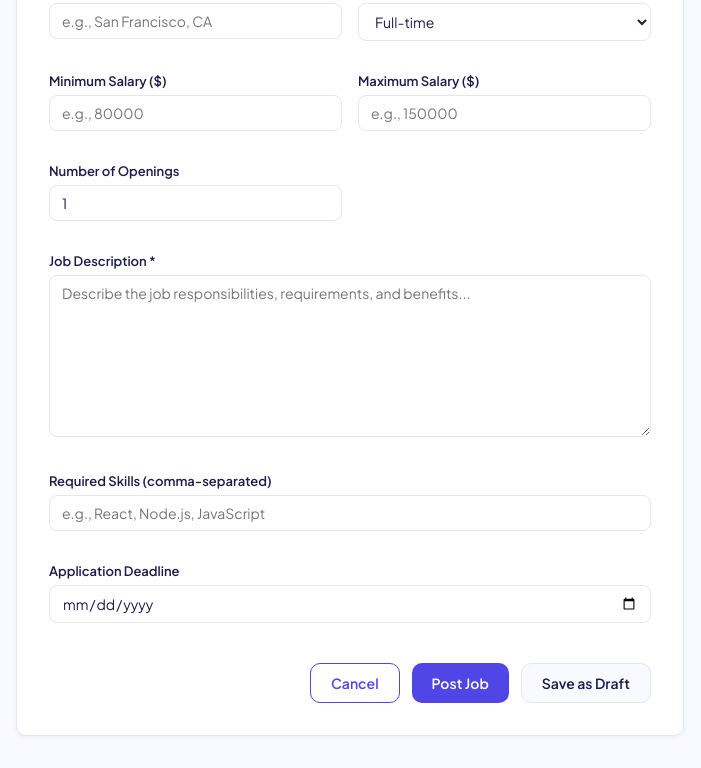
Test: CreateJobPost › shows validation error when required fields are empty
(page scrolled)
# Save as Draft bypasses HTML5 form validation but runs custom validation
Click the button "Save as Draft" at (586, 683), box [521, 663, 651, 703]
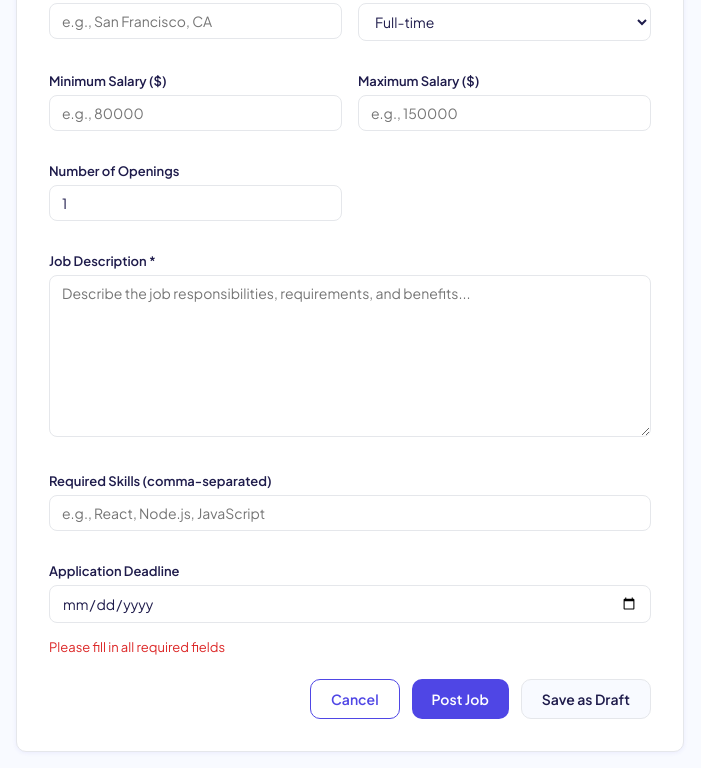
Expected: the text "Please fill in all required fields" is shown, [49, 639, 225, 655]
